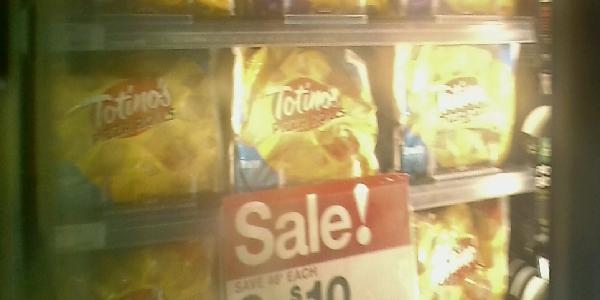icecream: (42, 56, 236, 206), (231, 45, 394, 202), (393, 43, 528, 180)
